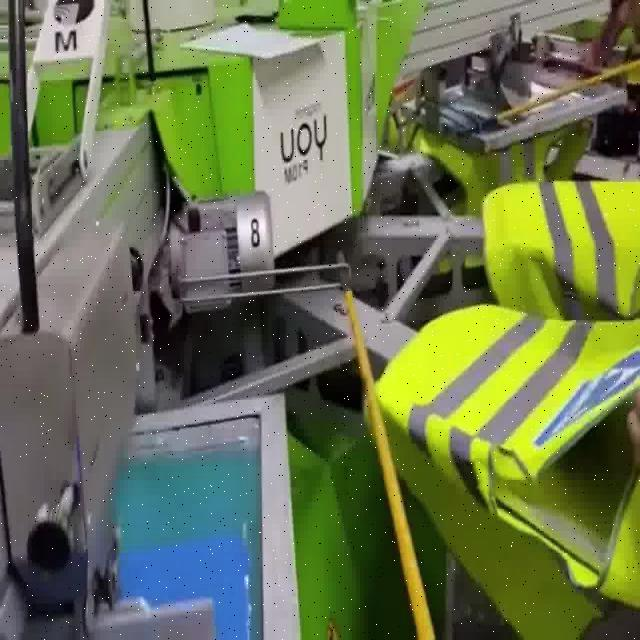Vest: (333, 312, 637, 634), (489, 176, 640, 614)
